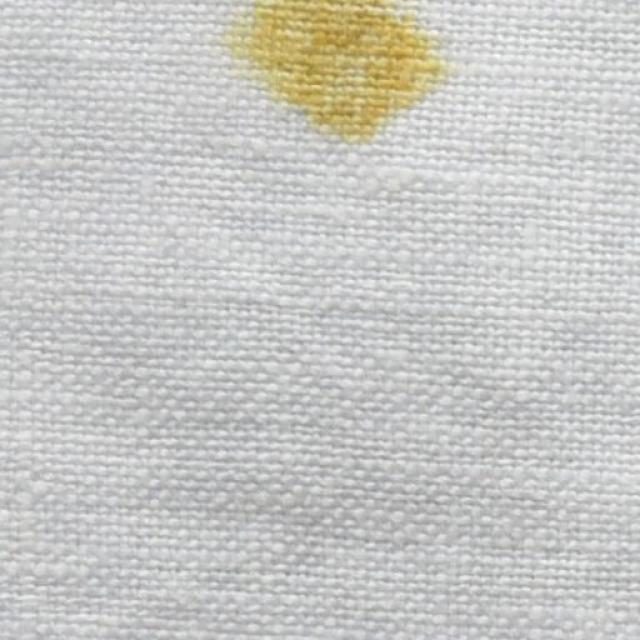Stain: (235, 0, 446, 149)
